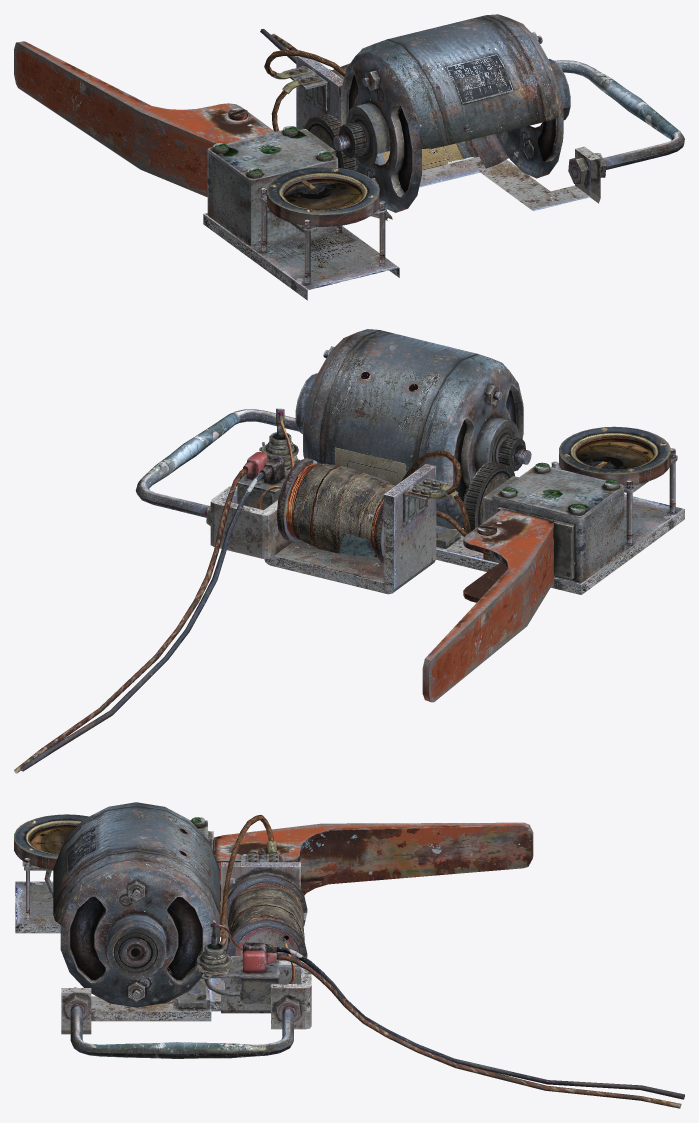
Rendered from dynamo.obj.
3 renders of one model, top to bottom at view 1: azimuth 30°, elevation 25°; view 2: azimuth 150°, elevation 25°; view 3: azimuth 270°, elevation 25°, orthographic. The views are drawn at different scales.
Visible parts, largest first — view 1: veh_zuzik; view 2: veh_zuzik; view 3: veh_zuzik.
Boxes of the visible parts, bbox=[...] form: veh_zuzik: bbox=[14, 14, 684, 300]; veh_zuzik: bbox=[14, 329, 684, 773]; veh_zuzik: bbox=[14, 802, 684, 1108].
Bounding box in the file's own units: 0.2805 × 0.1489 × 0.3952.
1 material, 1 textured.
